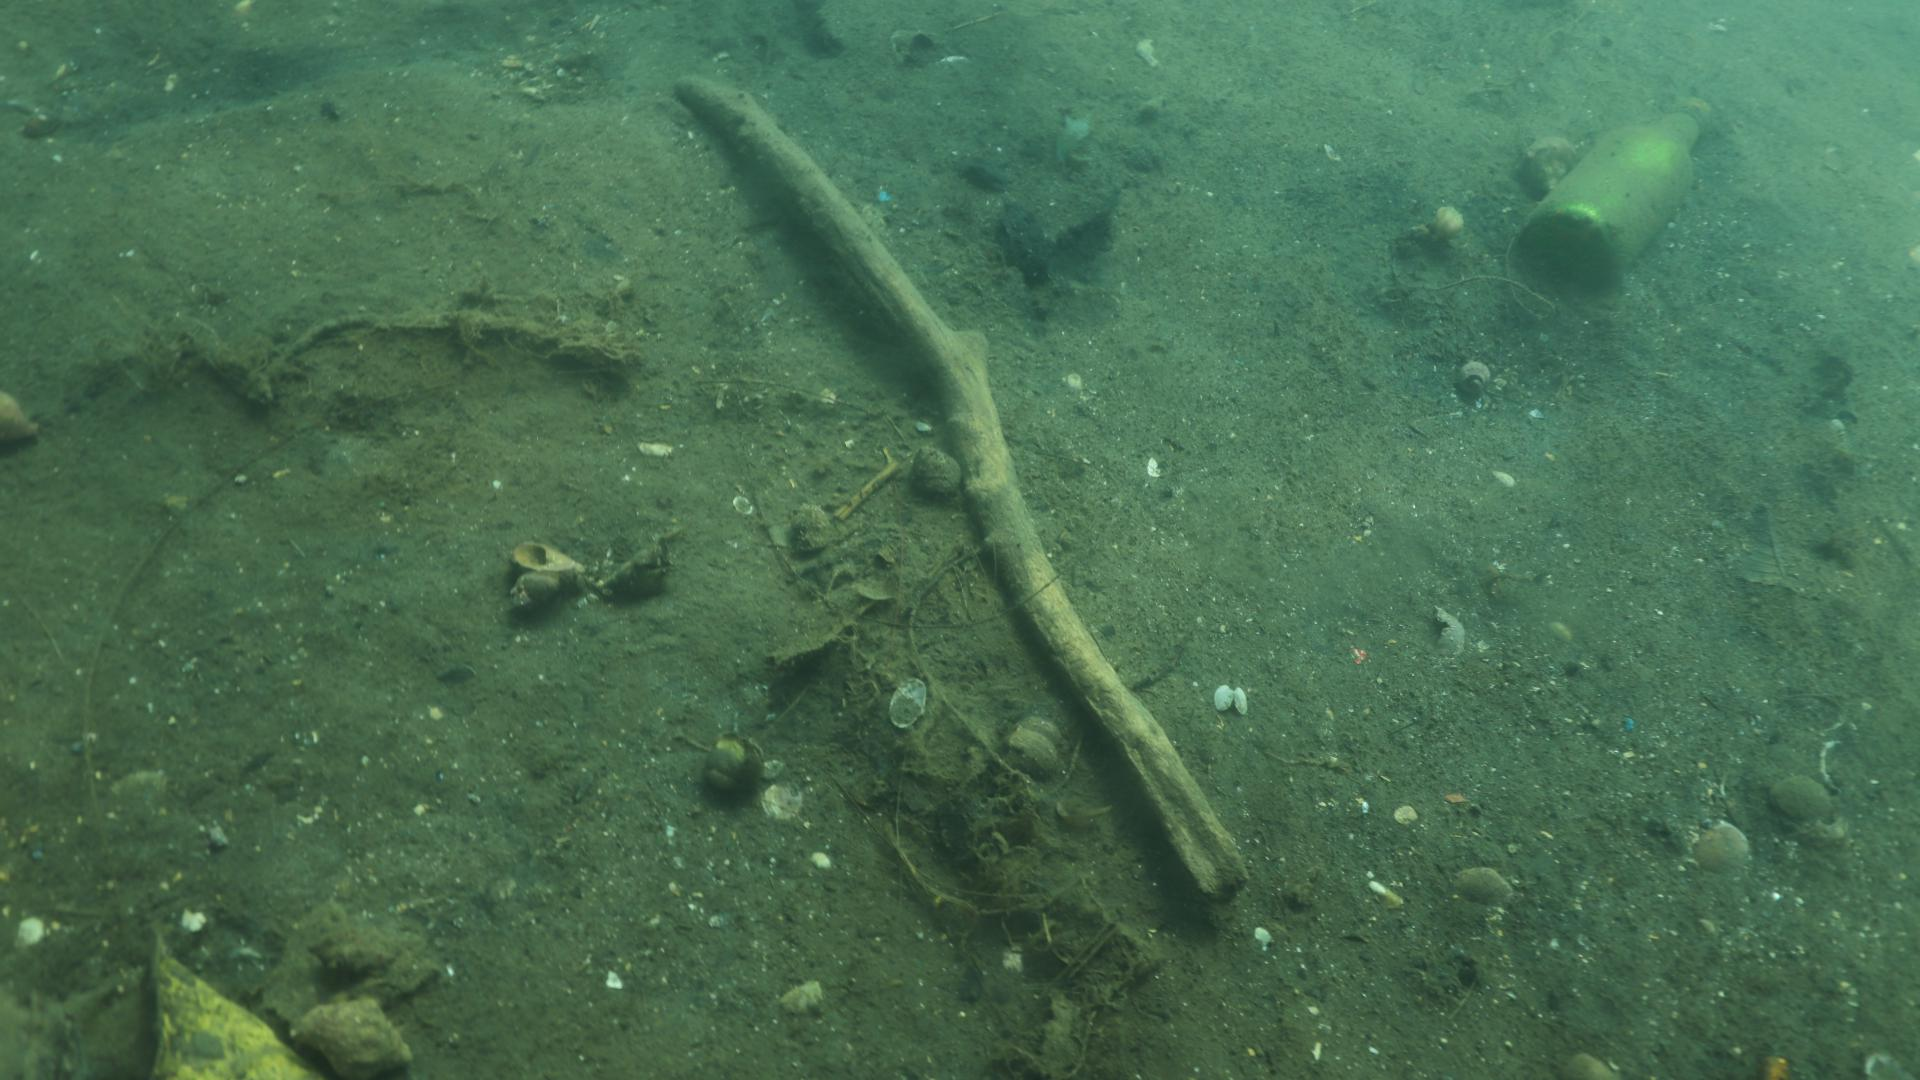wood: (669, 74, 1247, 903)
